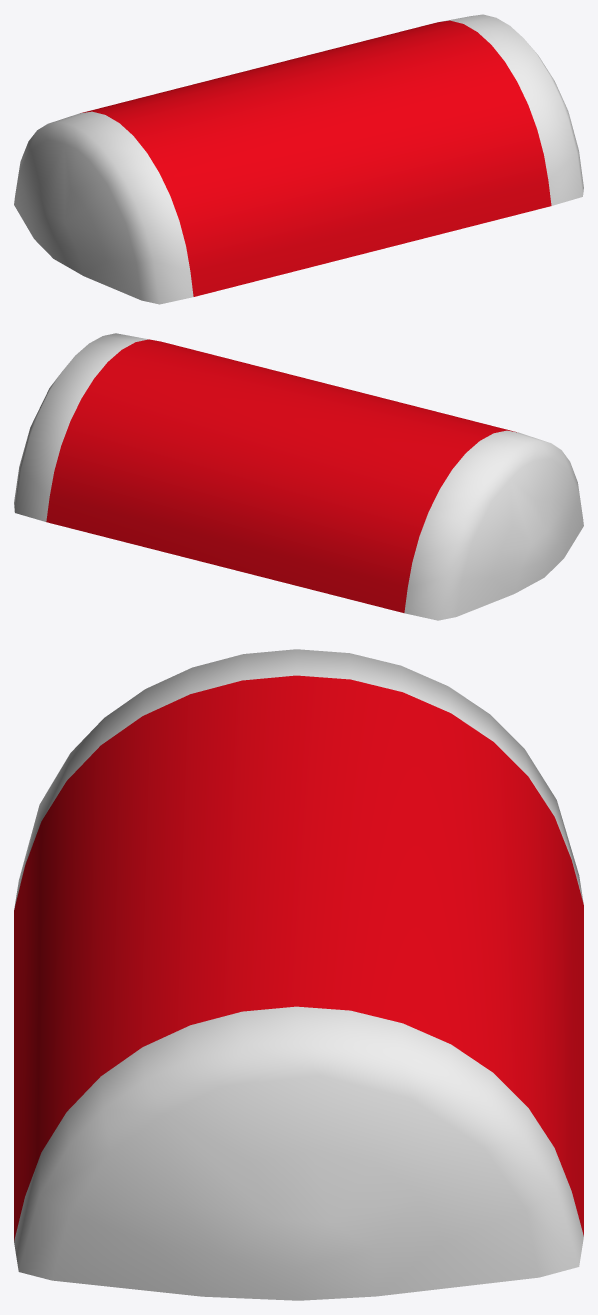
File: Note.fbx
The picture shows the model from 3 angles, top to bottom: view 1: azimuth 30°, elevation 25°; view 2: azimuth 150°, elevation 25°; view 3: azimuth 270°, elevation 25°; orthographic projection. The views are drawn at different scales.
Parts seen in each view (by area): view 1: Cylinder; view 2: Cylinder; view 3: Cylinder.
Boxes of the visible parts, bbox=[...] form: Cylinder: bbox=[14, 14, 583, 304]; Cylinder: bbox=[14, 333, 583, 620]; Cylinder: bbox=[14, 649, 583, 1300].
Bounding box in the file's own units: 193 × 46.85 × 100.
